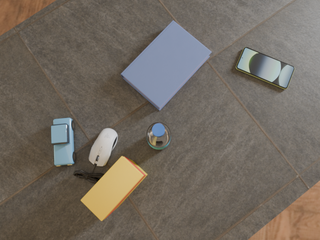book: (121, 21, 211, 111)
bottle: (147, 122, 171, 151)
box: (81, 156, 147, 221)
mouse: (89, 128, 117, 166)
phone: (236, 47, 295, 89)
toy_car: (51, 118, 76, 166)
